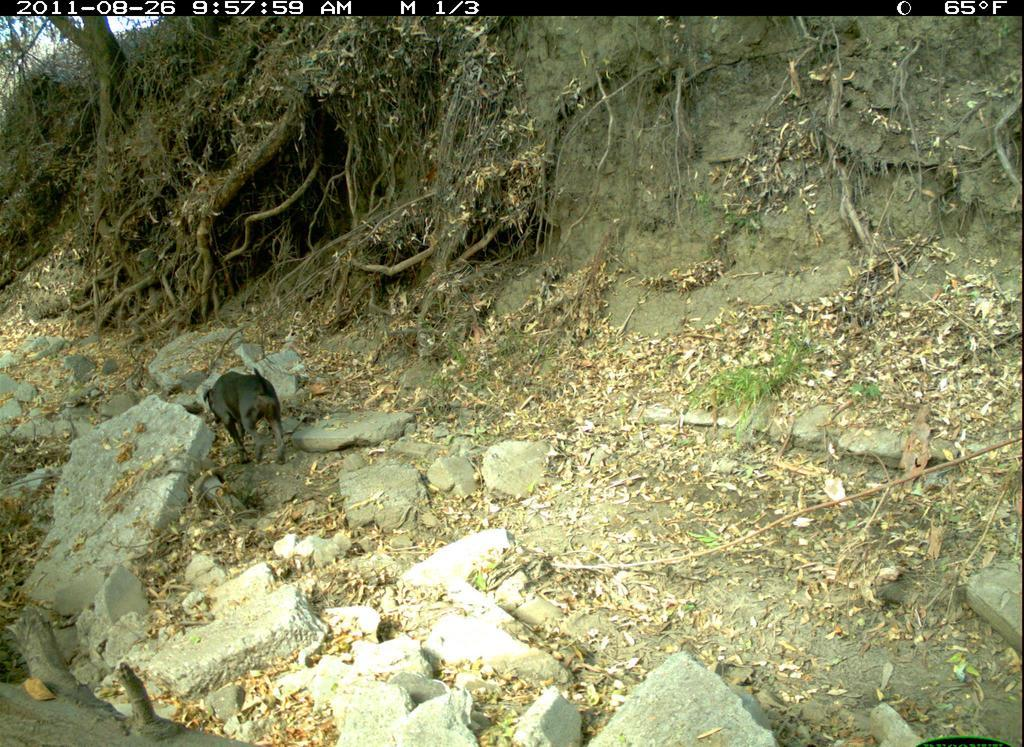dog: (195, 364, 297, 463)
